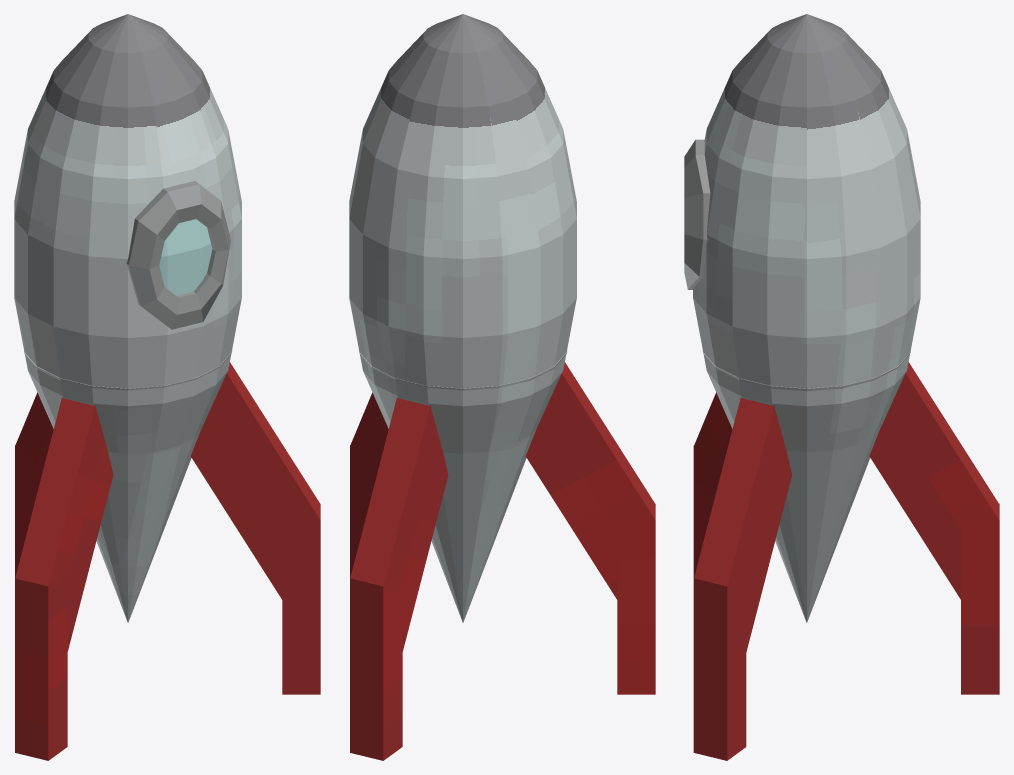
The model's file is rocket.fbx.
The picture shows the model from 3 angles, left to right: view 1: azimuth 30°, elevation 25°; view 2: azimuth 150°, elevation 25°; view 3: azimuth 270°, elevation 25°; orthographic projection.
Parts seen in each view (by area): view 1: sphere, cuboid_5, cuboid_3, cone, cuboid_2, torus, cuboid_4, cuboid_1, cuboid; view 2: sphere, cuboid_3, cuboid_1, cone, cuboid, cuboid_2, cuboid_5, cuboid_4; view 3: sphere, cuboid_1, cuboid_5, cone, cuboid_4, cuboid, torus, cuboid_3, cuboid_2.
Boxes of the visible parts, x1,y1,x2,y2 form: sphere: [14, 14, 241, 453]; cuboid_5: [190, 362, 320, 599]; cuboid_3: [15, 397, 113, 651]; cone: [24, 350, 232, 622]; cuboid_2: [15, 572, 67, 760]; torus: [126, 181, 230, 329]; cuboid_4: [282, 504, 320, 694]; cuboid_1: [15, 392, 53, 519]; cuboid: [15, 445, 34, 577]; sphere: [349, 14, 576, 453]; cuboid_3: [525, 362, 655, 599]; cuboid_1: [350, 397, 448, 651]; cone: [359, 350, 567, 622]; cuboid: [350, 573, 402, 760]; cuboid_2: [617, 504, 655, 694]; cuboid_5: [350, 392, 388, 520]; cuboid_4: [350, 445, 369, 577]; sphere: [693, 14, 920, 452]; cuboid_1: [869, 362, 998, 599]; cuboid_5: [694, 397, 791, 651]; cone: [702, 350, 910, 622]; cuboid_4: [693, 573, 746, 760]; cuboid: [961, 503, 999, 694]; torus: [684, 139, 710, 289]; cuboid_3: [694, 392, 732, 519]; cuboid_2: [693, 445, 712, 577].
Bounding box in the file's own units: 57.25 × 120 × 51.1.
Materials: 1 (1 with a texture image).
